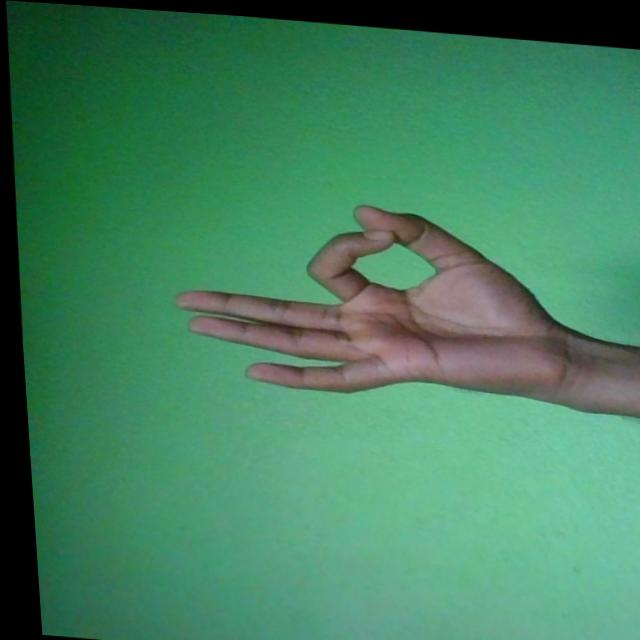Ok: (161, 184, 583, 406)
